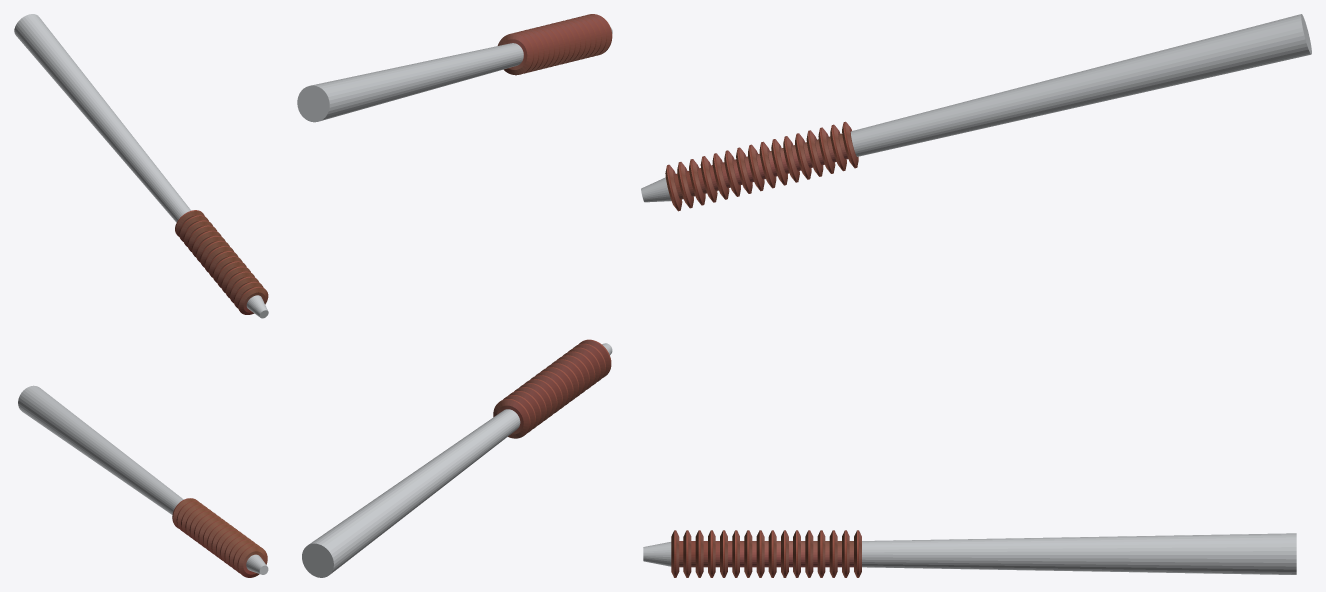
Rendered from catenary_end_15.obj.
3 renders of one model, left to right at view 1: azimuth 30°, elevation 25°; view 2: azimuth 150°, elevation 25°; view 3: azimuth 270°, elevation 25°, orthographic. The views are drawn at different scales.
Parts seen in each view (by area): view 1: insulators.001, insulators.002; view 2: insulators.002, insulators.001; view 3: insulators.001, insulators.002.
Part boxes in pixels (x1,y1,x2,y2): insulators.001: (14, 14, 268, 318); insulators.002: (18, 385, 268, 577); insulators.002: (302, 339, 612, 577); insulators.001: (297, 14, 612, 122); insulators.001: (641, 14, 1311, 211); insulators.002: (643, 530, 1296, 577).
Size of the model in its own units: 0.1451 by 1.89 by 2.05.
8 materials, 8 textured.
